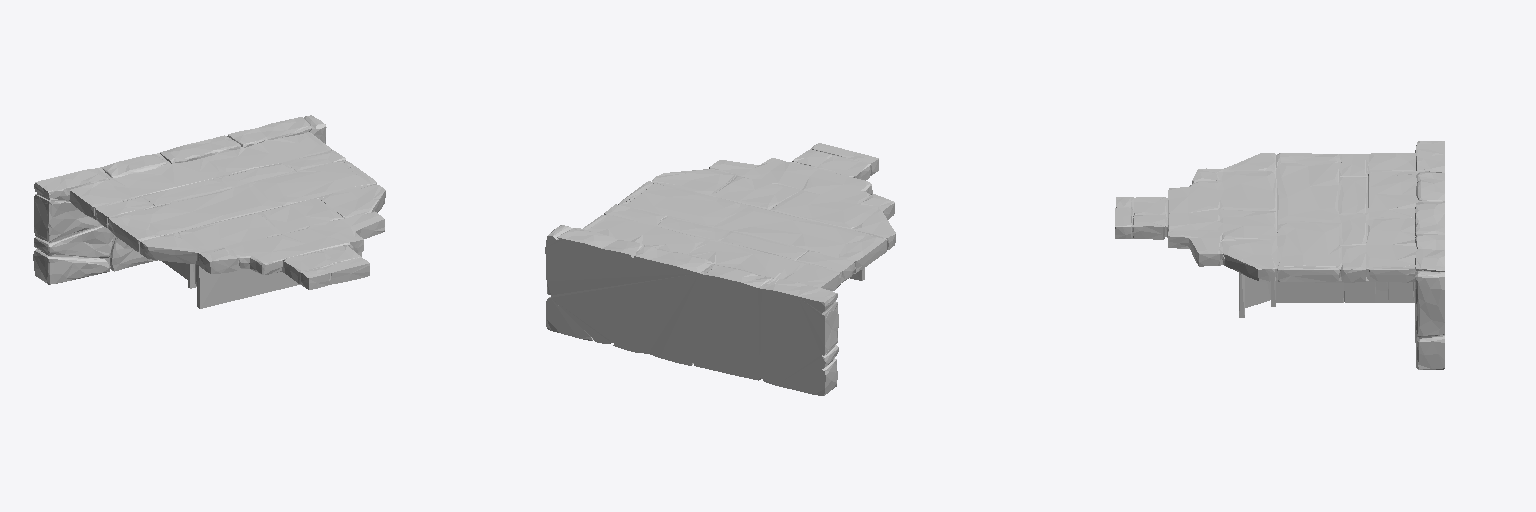
File: fireplace.obj
3 renders of one model, left to right at view 1: azimuth 30°, elevation 25°; view 2: azimuth 150°, elevation 25°; view 3: azimuth 270°, elevation 25°, orthographic.
Parts seen in each view (by area): view 1: mmGroup0; view 2: mmGroup0; view 3: mmGroup0.
Boxes of the visible parts, x1=… form: mmGroup0: x1=33, y1=115, x2=385, y2=308; mmGroup0: x1=545, y1=143, x2=895, y2=395; mmGroup0: x1=1115, y1=141, x2=1444, y2=369.
Size of the model in its own units: 65.14 by 21.6 by 66.3.